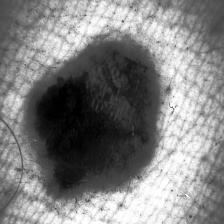Benign Marking or Mole: (26, 42, 160, 197)
